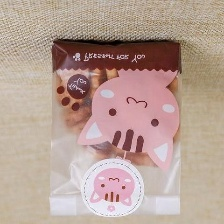snack: (37, 34, 189, 224)
